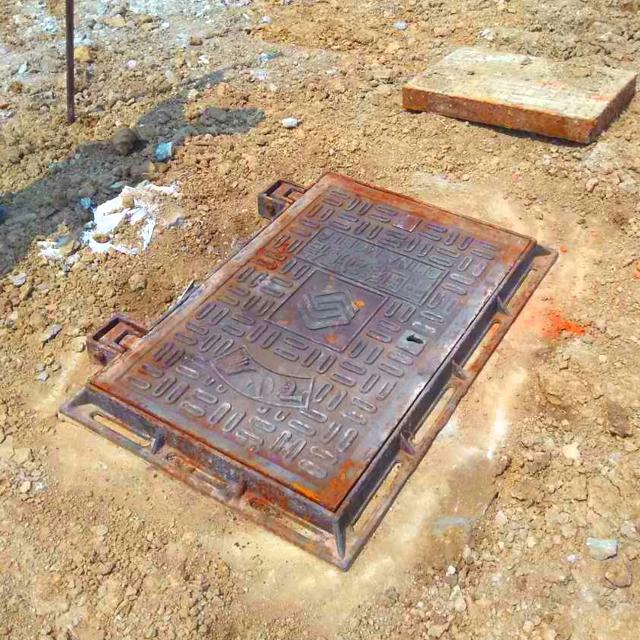good: (88, 169, 527, 546)
